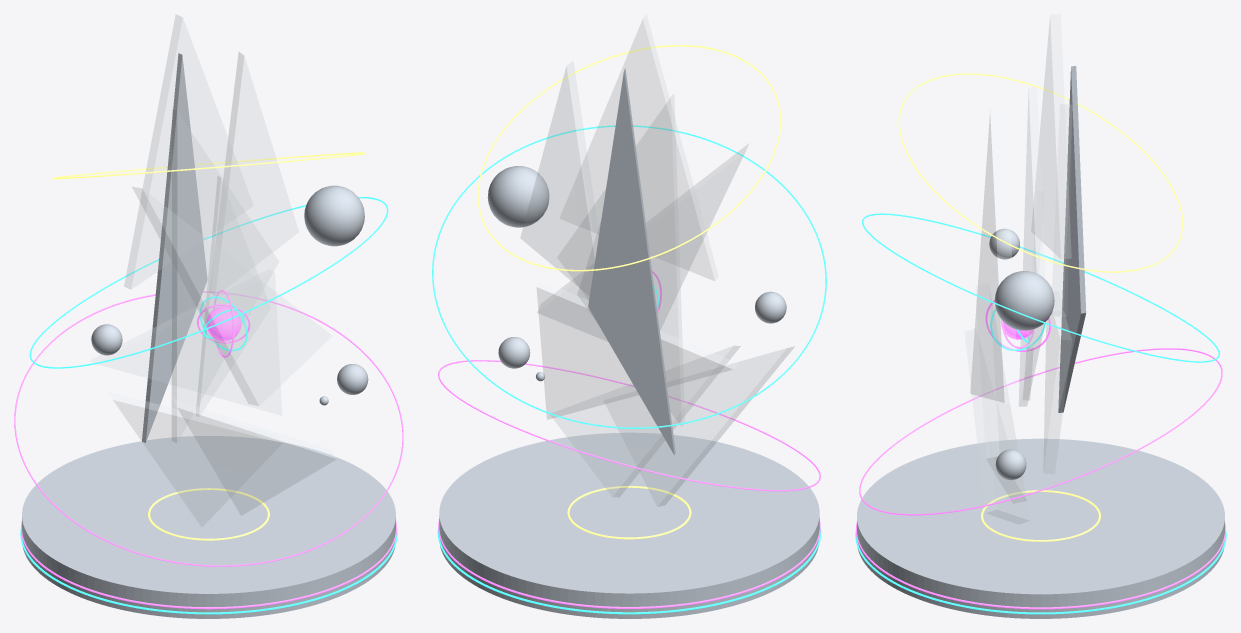
The model's file is prism-shift.glb.
3 renders of one model, left to right at view 1: azimuth 30°, elevation 25°; view 2: azimuth 150°, elevation 25°; view 3: azimuth 270°, elevation 25°, orthographic. The views are drawn at different scales.
Visible parts, largest first — view 1: Circular mirror podium, 03 Central upright mirror plane, 01 Offset soaring left spire, 04 Broad crossing foreground blade, 08 Narrow rear mirror blade, 06 Lower flaring left wedge, 05 Counter diagonal rear blade, 07 Lower right wing, 02 Right split golden spire, 09 Internal rose refractor, Podium light rim (×3), Mirror satellite 00 (+6 smaller); view 2: Circular mirror podium, 01 Offset soaring left spire, 08 Narrow rear mirror blade, 06 Lower flaring left wedge, 05 Counter diagonal rear blade, 03 Central upright mirror plane, 02 Right split golden spire, 07 Lower right wing, 04 Broad crossing foreground blade, Podium light rim (×3), Mirror satellite 00, Diagonal cyan orbit (+4 smaller); view 3: Circular mirror podium, 04 Broad crossing foreground blade, 01 Offset soaring left spire, 08 Narrow rear mirror blade, 07 Lower right wing, 06 Lower flaring left wedge, 03 Central upright mirror plane, 05 Counter diagonal rear blade, 02 Right split golden spire, Podium light rim (×3), Mirror satellite 00, Lower rose orbit (+5 smaller).
Boxes of the visible parts, bbox=[...] form: Circular mirror podium: bbox=[22, 436, 395, 618]; 03 Central upright mirror plane: bbox=[172, 109, 278, 442]; 01 Offset soaring left spire: bbox=[124, 15, 252, 289]; 04 Broad crossing foreground blade: bbox=[132, 187, 331, 405]; 08 Narrow rear mirror blade: bbox=[142, 53, 207, 442]; 06 Lower flaring left wedge: bbox=[107, 391, 281, 526]; 05 Counter diagonal rear blade: bbox=[90, 270, 281, 415]; 07 Lower right wing: bbox=[173, 399, 336, 515]; 02 Right split golden spire: bbox=[224, 52, 298, 265]; 09 Internal rose refractor: bbox=[196, 176, 270, 414]; Podium light rim (×3): bbox=[20, 488, 397, 614]; Mirror satellite 00: bbox=[304, 185, 364, 246]; Circular mirror podium: bbox=[439, 432, 819, 618]; 01 Offset soaring left spire: bbox=[560, 15, 718, 280]; 08 Narrow rear mirror blade: bbox=[588, 68, 675, 455]; 06 Lower flaring left wedge: bbox=[604, 347, 793, 506]; 05 Counter diagonal rear blade: bbox=[537, 281, 737, 419]; 03 Central upright mirror plane: bbox=[558, 94, 684, 426]; 02 Right split golden spire: bbox=[520, 61, 598, 295]; 07 Lower right wing: bbox=[551, 346, 740, 496]; 04 Broad crossing foreground blade: bbox=[537, 144, 748, 340]; Podium light rim (×3): bbox=[437, 486, 821, 614]; Mirror satellite 00: bbox=[487, 166, 549, 227]; Diagonal cyan orbit: bbox=[432, 125, 826, 428]; Circular mirror podium: bbox=[857, 438, 1224, 618]; 04 Broad crossing foreground blade: bbox=[970, 110, 1018, 403]; 01 Offset soaring left spire: bbox=[1031, 14, 1071, 258]; 08 Narrow rear mirror blade: bbox=[1058, 66, 1086, 412]; 07 Lower right wing: bbox=[965, 329, 1029, 523]; 06 Lower flaring left wedge: bbox=[975, 283, 1026, 502]; 03 Central upright mirror plane: bbox=[1019, 87, 1044, 406]; 05 Counter diagonal rear blade: bbox=[1043, 291, 1071, 474]; 02 Right split golden spire: bbox=[1052, 104, 1072, 316]; Podium light rim (×3): bbox=[855, 490, 1226, 614]; Mirror satellite 00: bbox=[994, 271, 1054, 330]; Lower rose orbit: bbox=[859, 348, 1222, 515].
Size of the model in its own units: 4.21 by 6.28 by 4.09.
